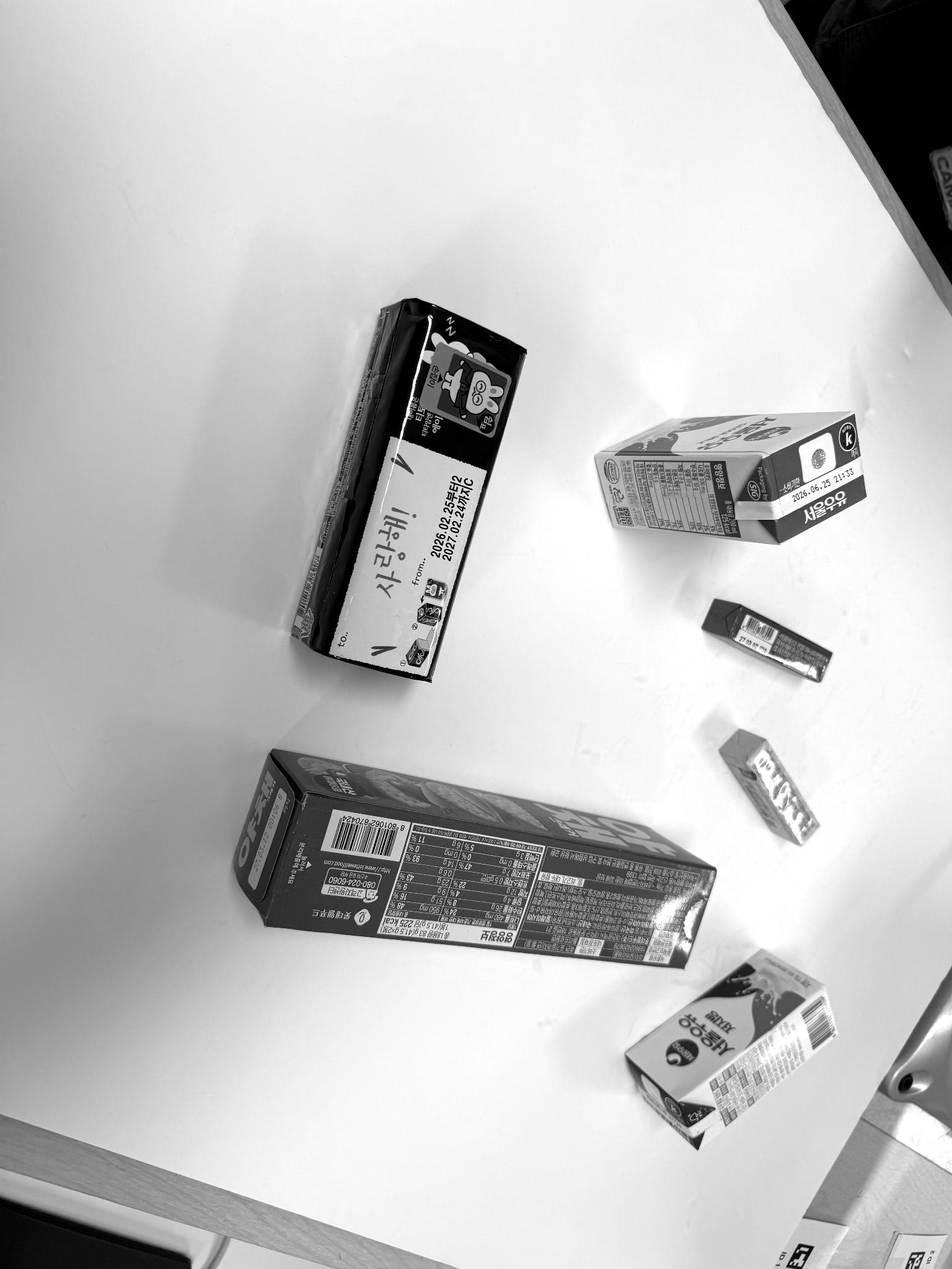cracker_ace: (292, 299, 526, 682)
cracker_vege: (233, 749, 716, 969)
gum_green: (702, 599, 832, 683)
gum_yellow: (719, 730, 819, 846)
milk_blue: (626, 949, 837, 1150)
milk_green: (595, 411, 865, 545)
